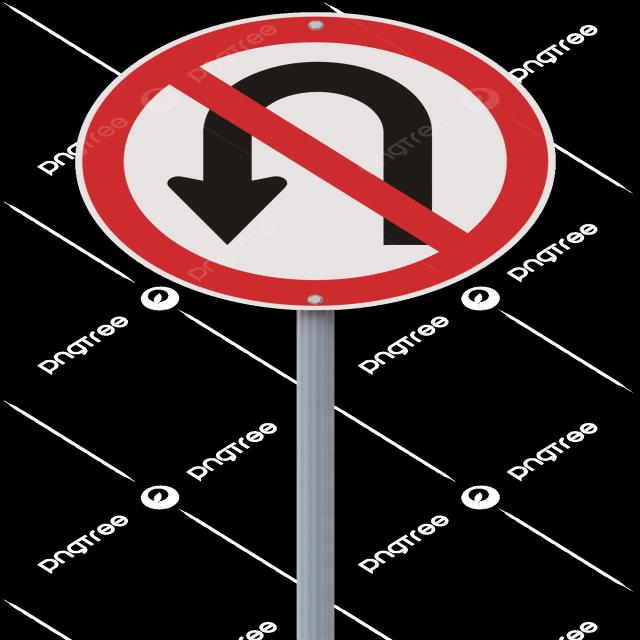Demi-Tour-Interdit: (92, 9, 532, 308)
